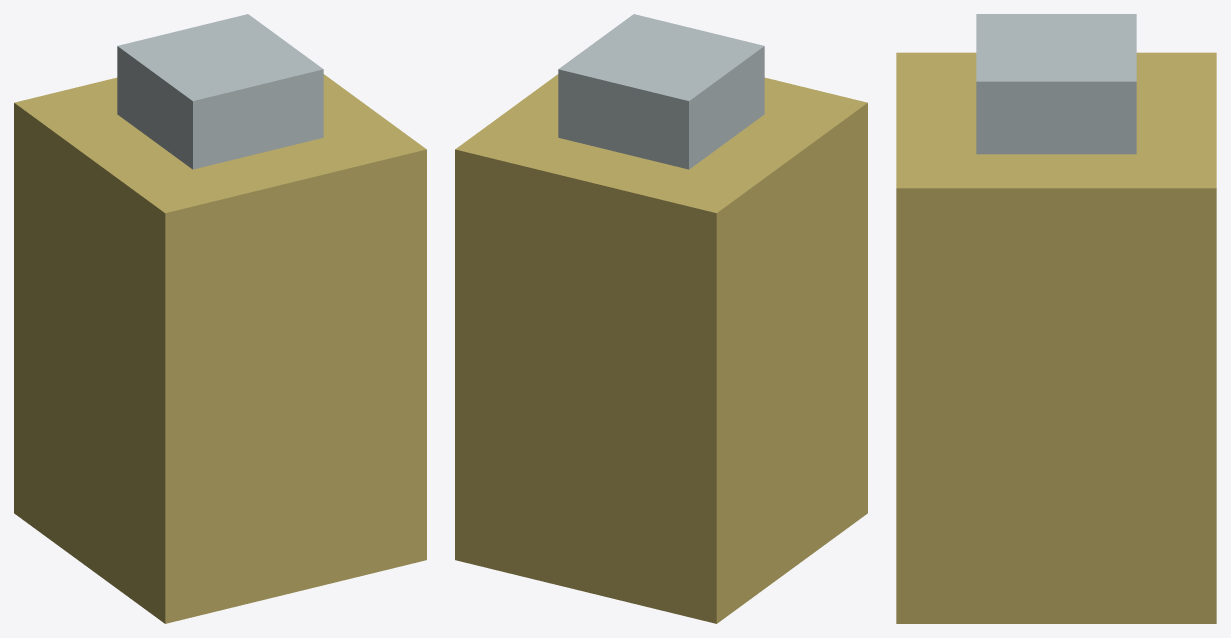
File: reliquia_mica_01.glb
3 renders of one model, left to right at view 1: azimuth 30°, elevation 25°; view 2: azimuth 150°, elevation 25°; view 3: azimuth 270°, elevation 25°, orthographic. The views are drawn at different scales.
Visible parts, largest first — view 1: reliquia_mica; view 2: reliquia_mica; view 3: reliquia_mica.
Part boxes in pixels (bbox=[...]): reliquia_mica: bbox=[14, 14, 426, 623]; reliquia_mica: bbox=[455, 14, 867, 623]; reliquia_mica: bbox=[896, 14, 1216, 623].
Bounding box in the file's own units: 0.4 × 0.7 × 0.4.
